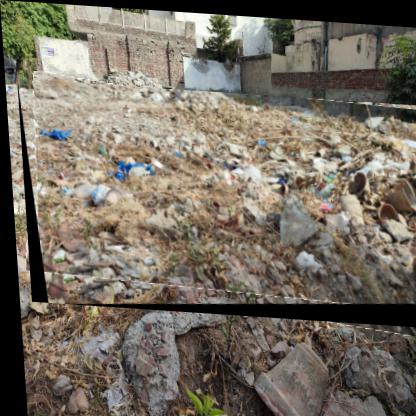Garbage: (17, 79, 416, 325)
